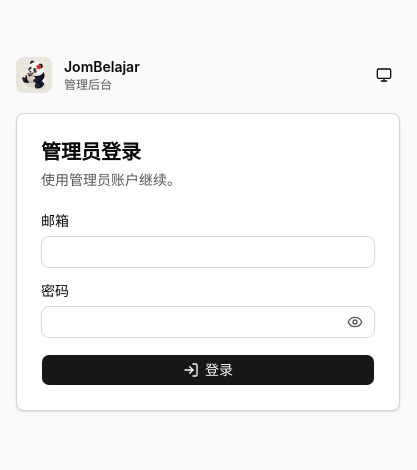
it: Login › maps backend field errors to the matching control
Step 1. Type "admin@example.test" into the field labelled "邮箱" → (208, 252), box x1=41 y1=236 x2=375 y2=268
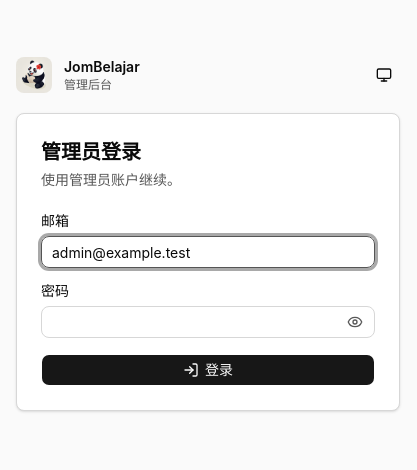
Step 2. Type "secret-password" into the password field labelled "密码" → (208, 322), box x1=41 y1=306 x2=375 y2=338
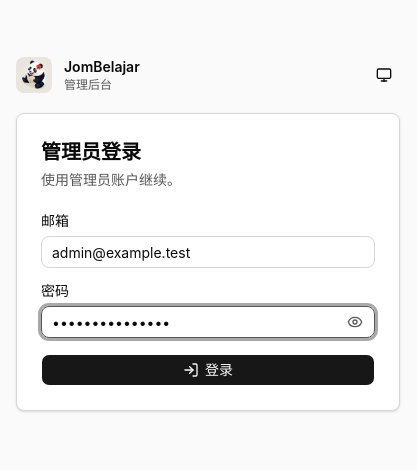
Step 3. Click the button "登录" → (208, 370), box x1=41 y1=354 x2=375 y2=386
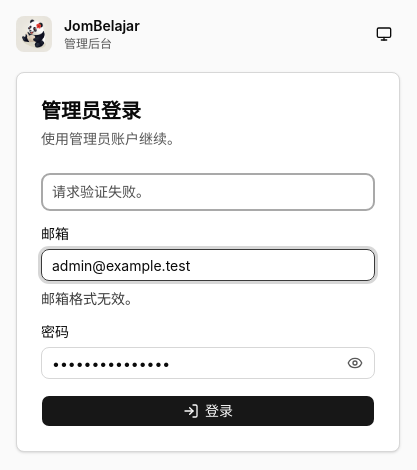
Result: the text "邮箱格式无效。" is shown at x1=41 y1=290 x2=139 y2=307
